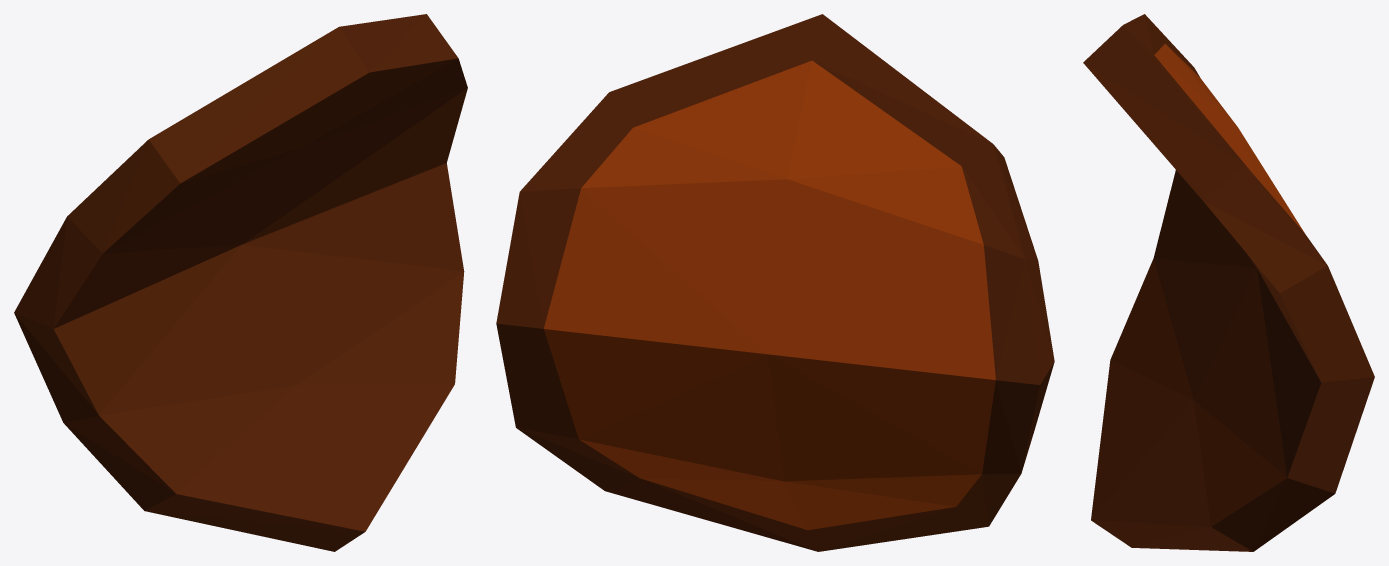
File: Pauldron 08.FBX
3 views of the same model, side by side, from view 1: azimuth 30°, elevation 25°; view 2: azimuth 150°, elevation 25°; view 3: azimuth 270°, elevation 25° (orthographic). The views are drawn at different scales.
Visible parts, largest first — view 1: Pauldron 08; view 2: Pauldron 08; view 3: Pauldron 08.
Boxes of the visible parts, bbox=[...] form: Pauldron 08: bbox=[14, 14, 467, 551]; Pauldron 08: bbox=[496, 14, 1054, 551]; Pauldron 08: bbox=[1083, 14, 1374, 551].
Bounding box in the file's own units: 30.32 × 16.2 × 32.02.
1 material, 1 textured.
